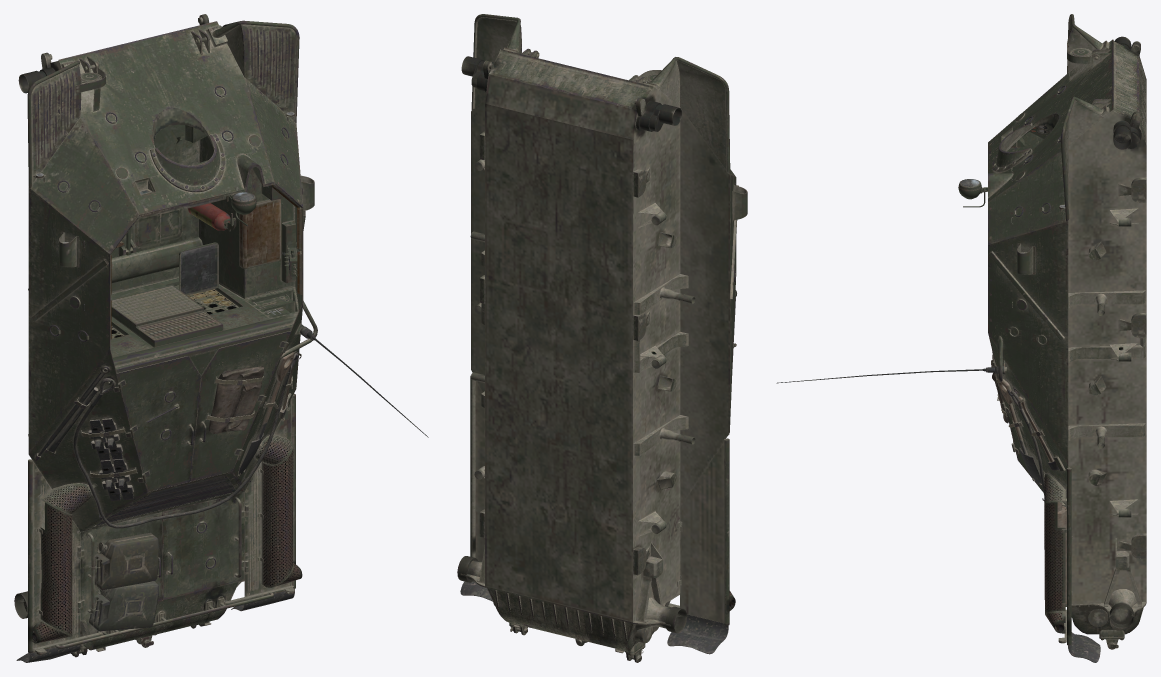
Rendered from Hull.glb.
3 views of the same model, side by side, from view 1: azimuth 30°, elevation 25°; view 2: azimuth 150°, elevation 25°; view 3: azimuth 270°, elevation 25° (orthographic). The views are drawn at different scales.
Visible parts, largest first — view 1: set_0_group_0; view 2: set_0_group_0; view 3: set_0_group_0.
Part boxes in pixels (x1,y1,x2,y2): set_0_group_0: (14,14,428,662); set_0_group_0: (457,14,747,662); set_0_group_0: (776,14,1146,662).
Bounding box in the file's own units: 2.23 × 4.88 × 2.92.
1 material, 1 textured.
